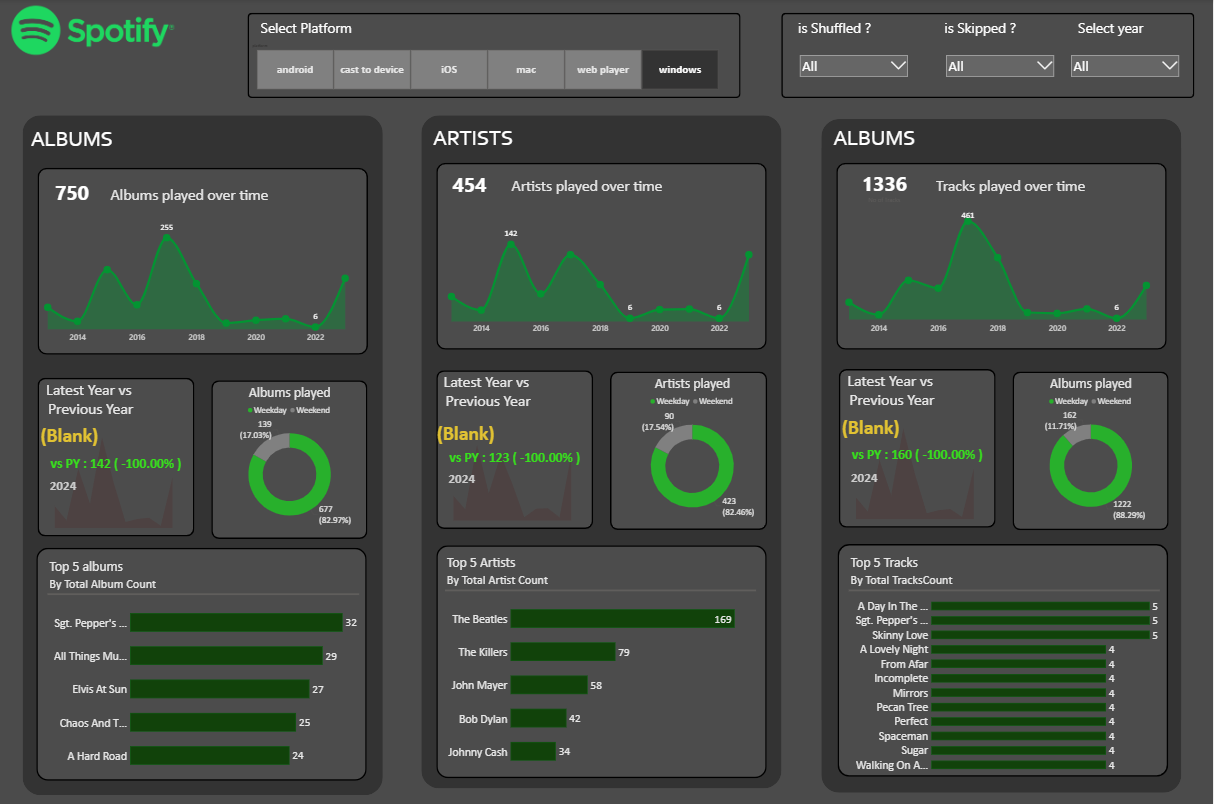

This screenshot's page, from the dashboard's own definition file:
{"tool":"powerbi","page":{"name":"Overview","canvas":[3300,2200],"ordinal":0},"visuals":[{"type":"shape","box":[674.6,36.9,1341.8,232.2],"z":0},{"type":"image","box":[0,3.7,508.7,169.6],"z":1000},{"type":"shape","box":[62.7,317,980.6,1850.5],"z":2000},{"type":"textbox","box":[73.7,339.1,239.6,99.5],"z":3000},{"type":"shape","box":[103.2,460.1,899.5,508.7],"z":4000},{"type":"card","fields":{"Values":["spotify_history.No of Albums"]},"box":[103.2,460.1,188,132.7],"z":5000},{"type":"textbox","box":[228.6,500.6,575.1,92.2],"z":6000},{"type":"areaChart","fields":{"Y":["spotify_history.No of Albums"],"Category":["Date Table.Year"]},"box":[103.2,592.8,866.3,353.9],"z":7000},{"type":"shape","box":[102,1030.8,427,432],"z":8000},{"type":"areaChart","fields":{"Y":["spotify_history.No of Albums"],"Category":["Date Table.Year"]},"box":[102,1136.2,415,309.5],"z":9000},{"type":"textbox","box":[30.6,1030.8,432,153.1],"z":10000},{"type":"card","fields":{"Values":["spotify_history.Current Year Album"]},"box":[91.8,1139.6,193.9,88.4],"z":11000},{"type":"card","fields":{"Values":["spotify_history.PY and YoY ALbums KPI"]},"box":[122.4,1214.5,394.6,95.2],"z":12000},{"type":"slicer","fields":{"Values":["spotify_history.platform"]},"box":[674.6,114.3,1305,136.4],"z":13000},{"type":"shape","box":[574.8,1037.6,425.2,432],"z":14000},{"type":"card","fields":{"Values":["spotify_history.Max Year"]},"box":[74.8,1279.1,193.9,88.4],"z":15000},{"type":"donutChart","title":"Albums played","fields":{"Category":["Date Table.Weekday_Weekend"],"Y":["spotify_history.No of Albums"]},"box":[573.3,1047.9,426.7,406.7],"z":16000},{"type":"shape","box":[99.5,1493,899.5,634.1],"z":17000},{"type":"barChart","title":"Top 5 albums ","fields":{"Category":["spotify_history.album_name"],"Y":["CountNonNull(spotify_history.album_name)"]},"box":[129,1518.8,847.9,608.2],"z":18000},{"type":"shape","box":[1146.5,317,980.6,1832.1],"z":19000},{"type":"shape","box":[2236.1,325.8,980,1833.3],"z":20000},{"type":"textbox","box":[1172.3,335.5,239.6,99.5],"z":21000},{"type":"shape","box":[1187,446,899.5,508.7],"z":22000},{"type":"card","fields":{"Values":["spotify_history.No. of artists"]},"box":[1184.7,435.8,188,132.7],"z":23000},{"type":"textbox","box":[1310.1,476.4,575.1,92.2],"z":24000},{"type":"areaChart","fields":{"Category":["Date Table.Year"],"Y":["spotify_history.No. of artists"]},"box":[1201.7,567.7,866.3,353.9],"z":25000},{"type":"shape","box":[1187,1485.6,899.5,634.1],"z":26000},{"type":"barChart","title":"Top 5 Artists","fields":{"Category":["spotify_history.artist_name"],"Y":["CountNonNull(spotify_history.artist_name)"]},"box":[1211.5,1510.3,846.7,606.7],"z":27000},{"type":"shape","box":[1186.8,1009.2,427,432],"z":28000},{"type":"areaChart","fields":{"Category":["Date Table.Year"],"Y":["spotify_history.No. of artists"]},"box":[1186.8,1114.6,415,309.5],"z":29000},{"type":"textbox","box":[1115.3,1009.2,425.2,149.7],"z":30000},{"type":"card","fields":{"Values":["spotify_history.Current Year Artist"]},"box":[1169.8,1131.6,193.9,88.4],"z":31000},{"type":"card","fields":{"Values":["spotify_history.PY and YoY Artist KPI"]},"box":[1207.2,1196.3,394.6,95.2],"z":32000},{"type":"shape","box":[1658.9,1013.7,427.6,431.3],"z":33000},{"type":"card","fields":{"Values":["spotify_history.Max Year"]},"box":[1159.5,1257.5,193.9,88.4],"z":34000},{"type":"donutChart","title":"Artists played","fields":{"Category":["Date Table.Weekday_Weekend"],"Y":["spotify_history.No. of artists"]},"box":[1669.9,1024.8,427.6,409.2],"z":35000},{"type":"textbox","box":[2257.8,336.3,239.6,99.5],"z":36000},{"type":"shape","box":[2274.5,446,899.5,508.7],"z":37000},{"type":"card","fields":{"Values":["spotify_history.No of Tracks"]},"box":[2312,447.2,187.1,132.7],"z":38000},{"type":"textbox","box":[2427.6,477.8,642.9,91.8],"z":39000},{"type":"areaChart","fields":{"Category":["Date Table.Year"],"Y":["spotify_history.No of Tracks"]},"box":[2283.6,568.5,866.3,353.9],"z":40000},{"type":"shape","box":[2282.5,1006.5,427,432],"z":41000},{"type":"areaChart","fields":{"Y":["spotify_history.No of Albums"],"Category":["Date Table.Year"]},"box":[2282.5,1112,415,309.5],"z":42000},{"type":"textbox","box":[2211,1006.5,432,153.1],"z":43000},{"type":"card","fields":{"Values":["spotify_history.Current Year Tracks"]},"box":[2272.3,1115.4,193.9,88.4],"z":44000},{"type":"card","fields":{"Values":["spotify_history.PY and YoY Tracks KPI"]},"box":[2302.9,1190.2,394.6,95.2],"z":45000},{"type":"shape","box":[2755.3,1013.3,425.2,432],"z":46000},{"type":"card","fields":{"Values":["spotify_history.Max Year"]},"box":[2255.3,1254.8,193.9,88.4],"z":47000},{"type":"donutChart","title":"Albums played","fields":{"Category":["Date Table.Weekday_Weekend"],"Y":["spotify_history.No of Tracks"]},"box":[2753.8,1023.7,426.7,406.7],"z":48000},{"type":"shape","box":[2280.4,1483.7,900,633.3],"z":49000},{"type":"barChart","title":"Top 5 Tracks","fields":{"Category":["spotify_history.track_name"],"Y":["CountNonNull(spotify_history.track_name)"]},"box":[2310.4,1510.3,846.7,606.7],"z":50000},{"type":"textbox","box":[704.1,47.9,272.8,81.1],"z":51000},{"type":"shape","box":[2127,36.9,1124.3,232.2],"z":52000},{"type":"slicer","fields":{"Values":["spotify_history.shuffle"]},"box":[2167.6,143.8,313.3,81.1],"z":53000},{"type":"slicer","fields":{"Values":["spotify_history.skipped"]},"box":[2565.7,143.8,313.3,92.2],"z":54000},{"type":"textbox","box":[2167.6,47.9,272.8,81.1],"z":55000},{"type":"textbox","box":[2565.7,47.9,272.8,81.1],"z":56000},{"type":"slicer","fields":{"Values":["Date Table.Year"]},"box":[2904.8,143.8,313.3,92.2],"z":57000},{"type":"textbox","box":[2927,47.9,272.8,81.1],"z":58000}]}

Visuals, with their boxes in screenshot pixels (x1, y1, x2, y2), scaled from the page's 3300x2200 canvas onto the 1214x804 screenshot:
shape: x1=248, y1=13, x2=742, y2=98
image: x1=0, y1=1, x2=187, y2=63
shape: x1=23, y1=116, x2=384, y2=792
textbox: x1=27, y1=124, x2=115, y2=160
shape: x1=38, y1=168, x2=369, y2=354
card - spotify_history.No of Albums: x1=38, y1=168, x2=107, y2=217
textbox: x1=84, y1=183, x2=296, y2=217
areaChart - spotify_history.No of Albums x Date Table.Year: x1=38, y1=217, x2=357, y2=346
shape: x1=38, y1=377, x2=195, y2=535
areaChart - spotify_history.No of Albums x Date Table.Year: x1=38, y1=415, x2=190, y2=528
textbox: x1=11, y1=377, x2=170, y2=433
card - spotify_history.Current Year Album: x1=34, y1=416, x2=105, y2=449
card - spotify_history.PY and YoY ALbums KPI: x1=45, y1=444, x2=190, y2=479
slicer - spotify_history.platform: x1=248, y1=42, x2=728, y2=92
shape: x1=211, y1=379, x2=368, y2=537
card - spotify_history.Max Year: x1=28, y1=467, x2=99, y2=500
"Albums played" donutChart: x1=211, y1=383, x2=368, y2=532
shape: x1=37, y1=546, x2=368, y2=777
"Top 5 albums " barChart: x1=47, y1=555, x2=359, y2=777
shape: x1=422, y1=116, x2=783, y2=785
shape: x1=823, y1=119, x2=1183, y2=789
textbox: x1=431, y1=123, x2=519, y2=159
shape: x1=437, y1=163, x2=768, y2=349
card - spotify_history.No. of artists: x1=436, y1=159, x2=505, y2=208
textbox: x1=482, y1=174, x2=694, y2=208
areaChart - Date Table.Year x spotify_history.No. of artists: x1=442, y1=207, x2=761, y2=337
shape: x1=437, y1=543, x2=768, y2=775
"Top 5 Artists" barChart: x1=446, y1=552, x2=757, y2=774
shape: x1=437, y1=369, x2=594, y2=527
areaChart - Date Table.Year x spotify_history.No. of artists: x1=437, y1=407, x2=589, y2=520
textbox: x1=410, y1=369, x2=567, y2=424
card - spotify_history.Current Year Artist: x1=430, y1=414, x2=502, y2=446
card - spotify_history.PY and YoY Artist KPI: x1=444, y1=437, x2=589, y2=472
shape: x1=610, y1=370, x2=768, y2=528
card - spotify_history.Max Year: x1=427, y1=460, x2=498, y2=492
"Artists played" donutChart: x1=614, y1=375, x2=772, y2=524
textbox: x1=831, y1=123, x2=919, y2=159
shape: x1=837, y1=163, x2=1168, y2=349
card - spotify_history.No of Tracks: x1=851, y1=163, x2=919, y2=212
textbox: x1=893, y1=175, x2=1130, y2=208
areaChart - Date Table.Year x spotify_history.No of Tracks: x1=840, y1=208, x2=1159, y2=337
shape: x1=840, y1=368, x2=997, y2=526
areaChart - spotify_history.No of Albums x Date Table.Year: x1=840, y1=406, x2=992, y2=519
textbox: x1=813, y1=368, x2=972, y2=424
card - spotify_history.Current Year Tracks: x1=836, y1=408, x2=907, y2=440
card - spotify_history.PY and YoY Tracks KPI: x1=847, y1=435, x2=992, y2=470
shape: x1=1014, y1=370, x2=1170, y2=528
card - spotify_history.Max Year: x1=830, y1=459, x2=901, y2=491
"Albums played" donutChart: x1=1013, y1=374, x2=1170, y2=523
shape: x1=839, y1=542, x2=1170, y2=774
"Top 5 Tracks" barChart: x1=850, y1=552, x2=1161, y2=774
textbox: x1=259, y1=18, x2=359, y2=47
shape: x1=782, y1=13, x2=1196, y2=98
slicer - spotify_history.shuffle: x1=797, y1=53, x2=913, y2=82
slicer - spotify_history.skipped: x1=944, y1=53, x2=1059, y2=86
textbox: x1=797, y1=18, x2=898, y2=47
textbox: x1=944, y1=18, x2=1044, y2=47
slicer - Date Table.Year: x1=1069, y1=53, x2=1184, y2=86
textbox: x1=1077, y1=18, x2=1177, y2=47
